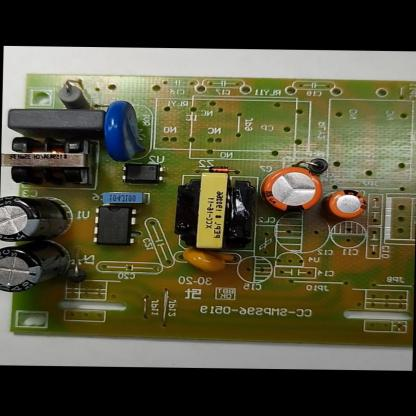Cap1: (257, 162, 327, 216)
Cap2: (324, 186, 372, 223)
Cap3: (0, 191, 65, 245)
Cap4: (0, 242, 60, 295)
MOSFET: (88, 200, 146, 252)
Mov: (96, 91, 150, 164)
Resistor: (48, 69, 92, 111)
Transformer: (172, 166, 263, 256), (1, 127, 102, 190)
